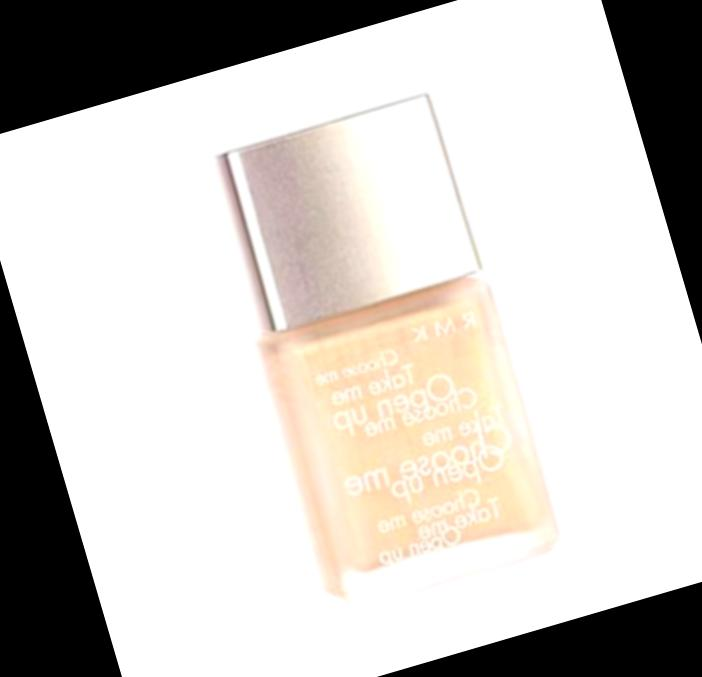cosmetic: (192, 87, 571, 618)
